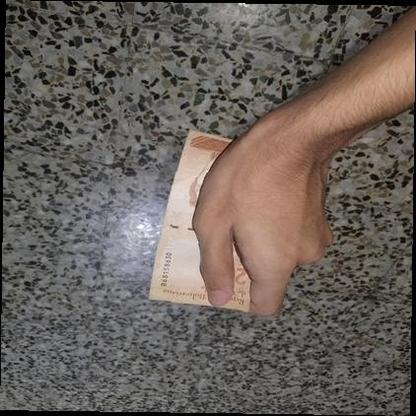twenty-front-vef: (148, 128, 252, 312)
